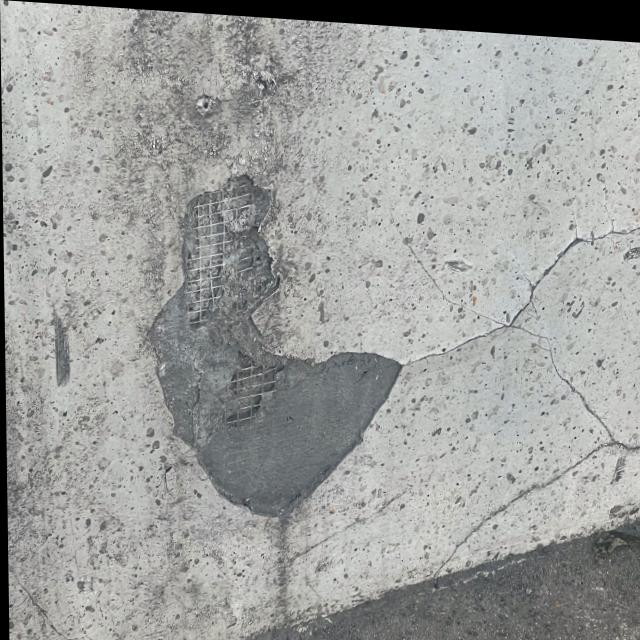crack: (421, 335, 640, 593), (409, 217, 634, 380)
spalling: (131, 115, 432, 550)
